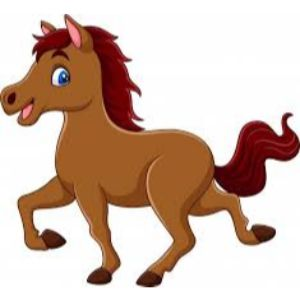horse: (1, 11, 300, 288)
